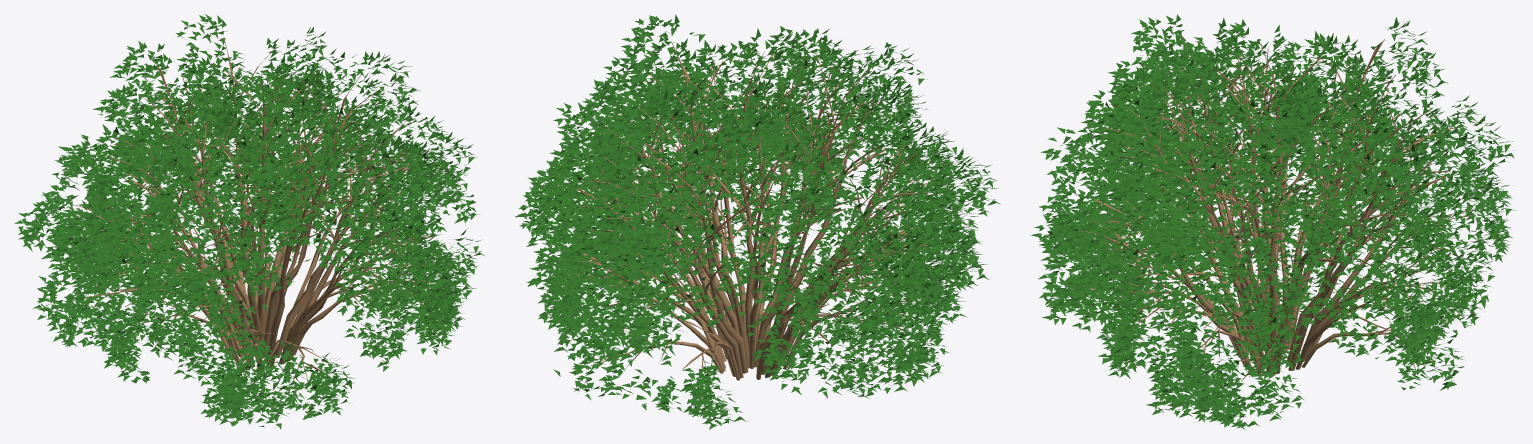
The model's file is Asset_GroundBush.fbx.
3 views of the same model, side by side, from view 1: azimuth 30°, elevation 25°; view 2: azimuth 150°, elevation 25°; view 3: azimuth 270°, elevation 25° (orthographic). The views are drawn at different scales.
Parts seen in each view (by area): view 1: Asset_GroundBush; view 2: Asset_GroundBush; view 3: Asset_GroundBush.
Part boxes in pixels (box(x1,y1,x2,y2)): Asset_GroundBush: box(14, 14, 484, 429); Asset_GroundBush: box(515, 14, 1000, 429); Asset_GroundBush: box(1030, 14, 1516, 429).
Size of the model in its own units: 1.42 by 1.05 by 1.42.
